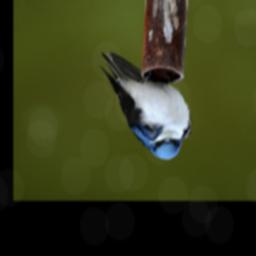Swallow: (98, 51, 193, 161)
